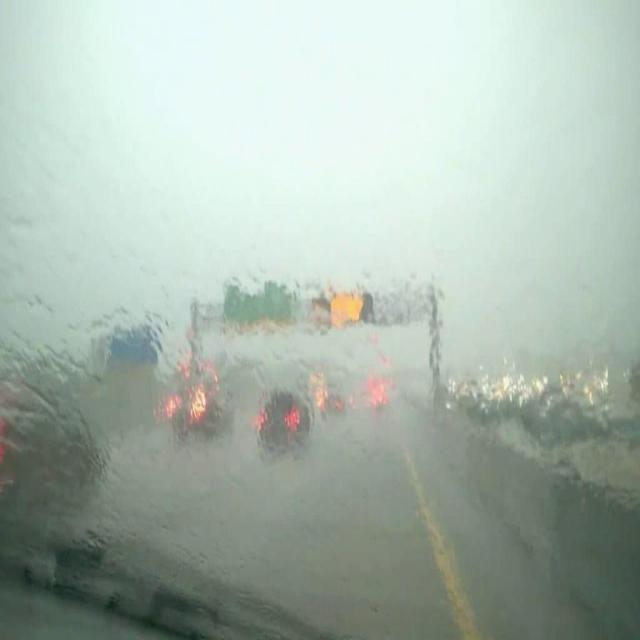Car: (0, 347, 88, 514), (160, 347, 228, 459), (260, 368, 307, 473), (364, 356, 389, 413), (320, 376, 345, 430)
